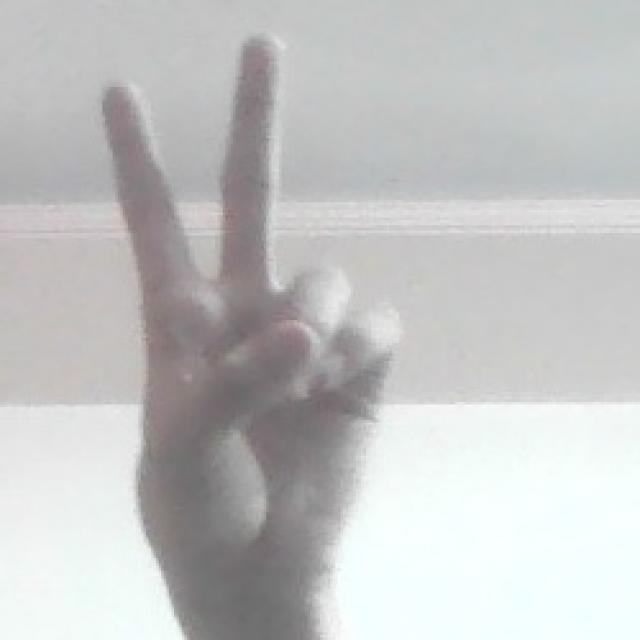Numeric-2: (100, 31, 404, 584)
